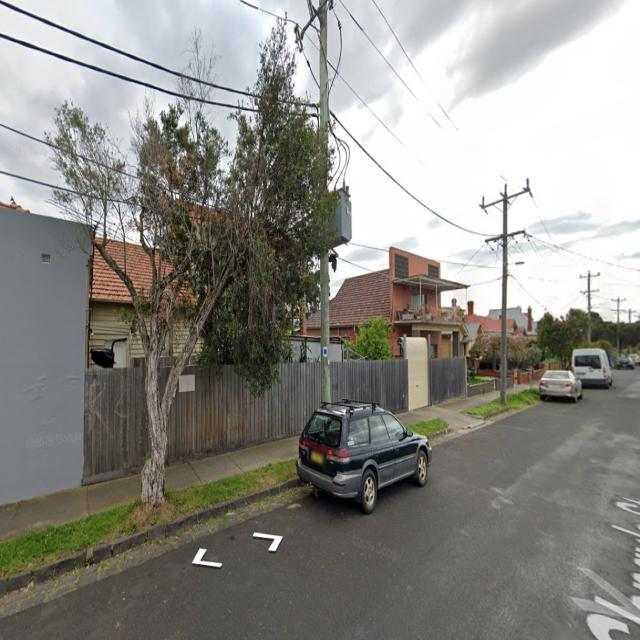HV-transmission: (294, 0, 333, 53), (479, 178, 533, 215), (580, 270, 600, 278), (611, 296, 626, 303)
crossarm: (299, 0, 331, 39), (482, 186, 530, 208), (484, 229, 525, 245), (580, 290, 599, 294), (580, 275, 600, 278), (611, 298, 626, 302), (611, 309, 626, 312), (624, 311, 636, 313)
streetlight: (507, 260, 525, 266)
timber-pole: (319, 0, 332, 405), (499, 182, 508, 407), (588, 270, 592, 344), (617, 295, 620, 355), (629, 309, 631, 324)
transformer: (322, 182, 352, 248)
